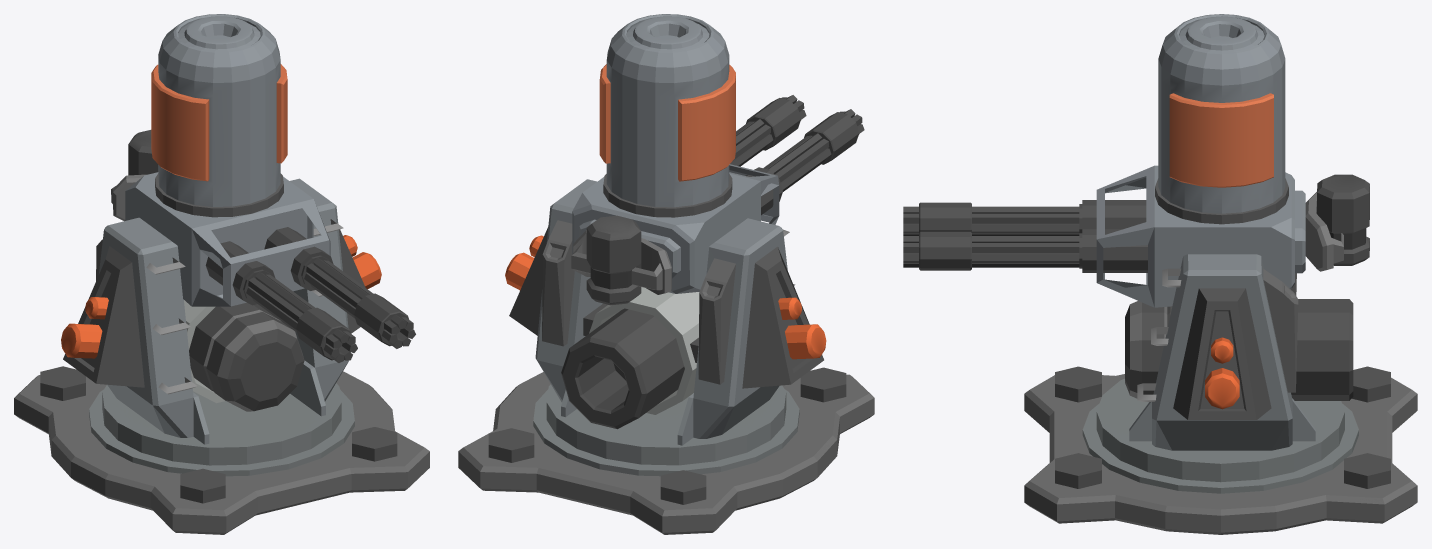
The model's file is model_polyfleet_battleship_phalanx05.fbx.
The picture shows the model from 3 angles, left to right: view 1: azimuth 30°, elevation 25°; view 2: azimuth 150°, elevation 25°; view 3: azimuth 270°, elevation 25°; orthographic projection. The views are drawn at different scales.
Visible parts, largest first — view 1: weapon_rotate, weapon_barrel_tilt, model_polyfleet_battleship_phalanx05, weapon_barrels1, weapon_barrels2; view 2: weapon_rotate, weapon_barrel_tilt, model_polyfleet_battleship_phalanx05, weapon_barrels1, weapon_barrels2; view 3: weapon_rotate, weapon_barrel_tilt, model_polyfleet_battleship_phalanx05, weapon_barrels2, weapon_barrels1.
Part boxes in pixels (x1=…): weapon_rotate: x1=61, y1=130, x2=381, y2=476; weapon_barrel_tilt: x1=125, y1=14, x2=330, y2=306; model_polyfleet_battleship_phalanx05: x1=14, y1=366, x2=429, y2=534; weapon_barrels1: x1=205, y1=241, x2=357, y2=362; weapon_barrels2: x1=264, y1=227, x2=415, y2=348; weapon_rotate: x1=505, y1=179, x2=826, y2=476; weapon_barrel_tilt: x1=572, y1=14, x2=779, y2=293; model_polyfleet_battleship_phalanx05: x1=458, y1=367, x2=874, y2=534; weapon_barrels1: x1=745, y1=109, x2=864, y2=215; weapon_barrels2: x1=730, y1=95, x2=806, y2=166; weapon_rotate: x1=1082, y1=174, x2=1369, y2=493; weapon_barrel_tilt: x1=1096, y1=14, x2=1305, y2=307; model_polyfleet_battleship_phalanx05: x1=1024, y1=366, x2=1417, y2=534; weapon_barrels2: x1=903, y1=229, x2=1147, y2=272; weapon_barrels1: x1=903, y1=200, x2=1146, y2=235.
Size of the model in its own units: 384 by 489 by 530.
